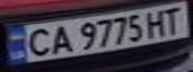5: (124, 11, 148, 42)
7: (109, 15, 133, 45), (93, 16, 115, 47)
9: (75, 19, 96, 51)
A: (45, 22, 75, 55)
C: (18, 25, 54, 57)
H: (142, 7, 169, 38)
T: (157, 3, 190, 35)
